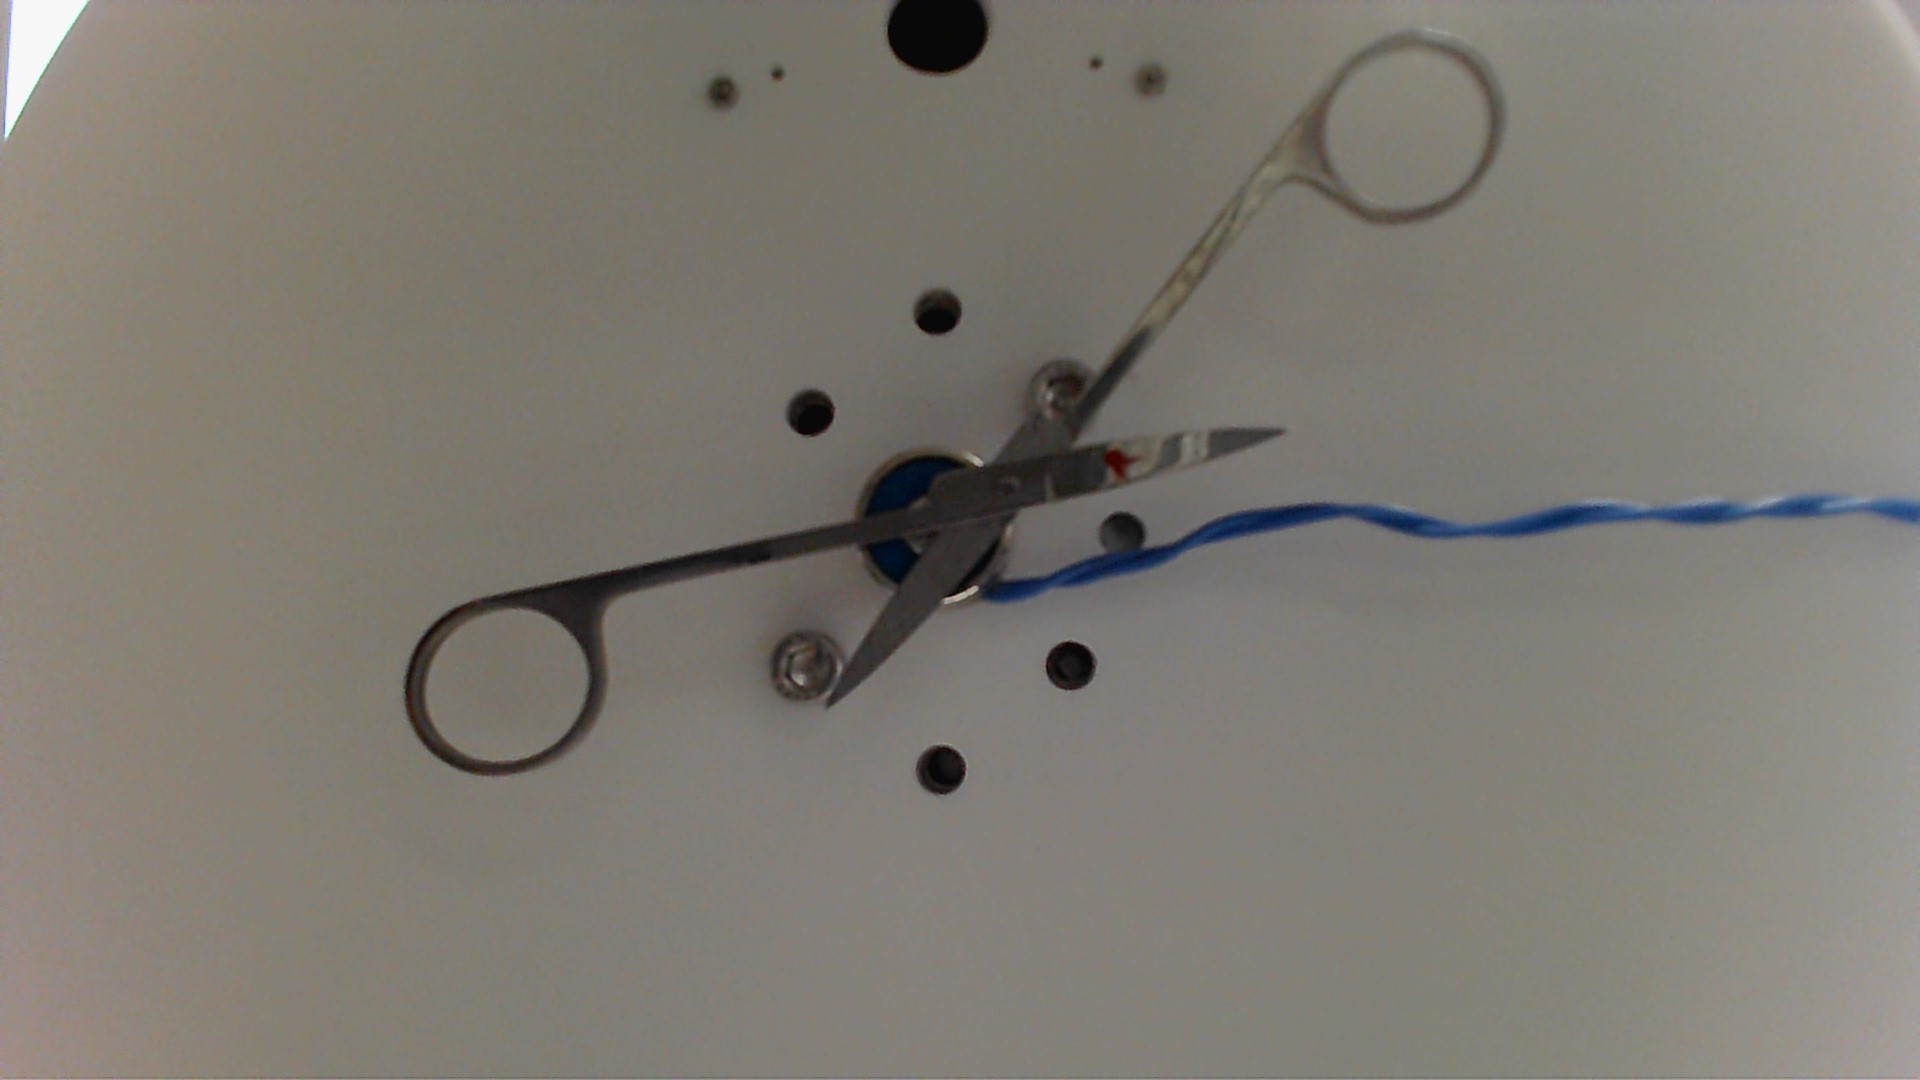Stain: (1096, 443, 1143, 481)
